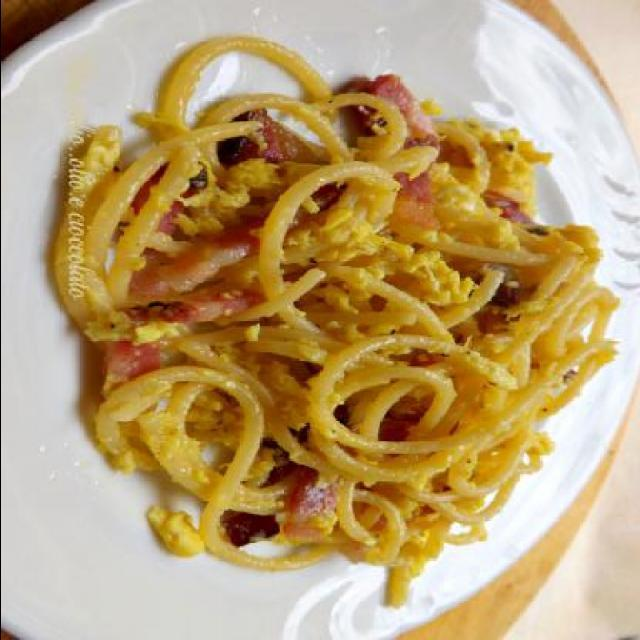Pasta with carbonara sauce: (58, 79, 632, 593)
